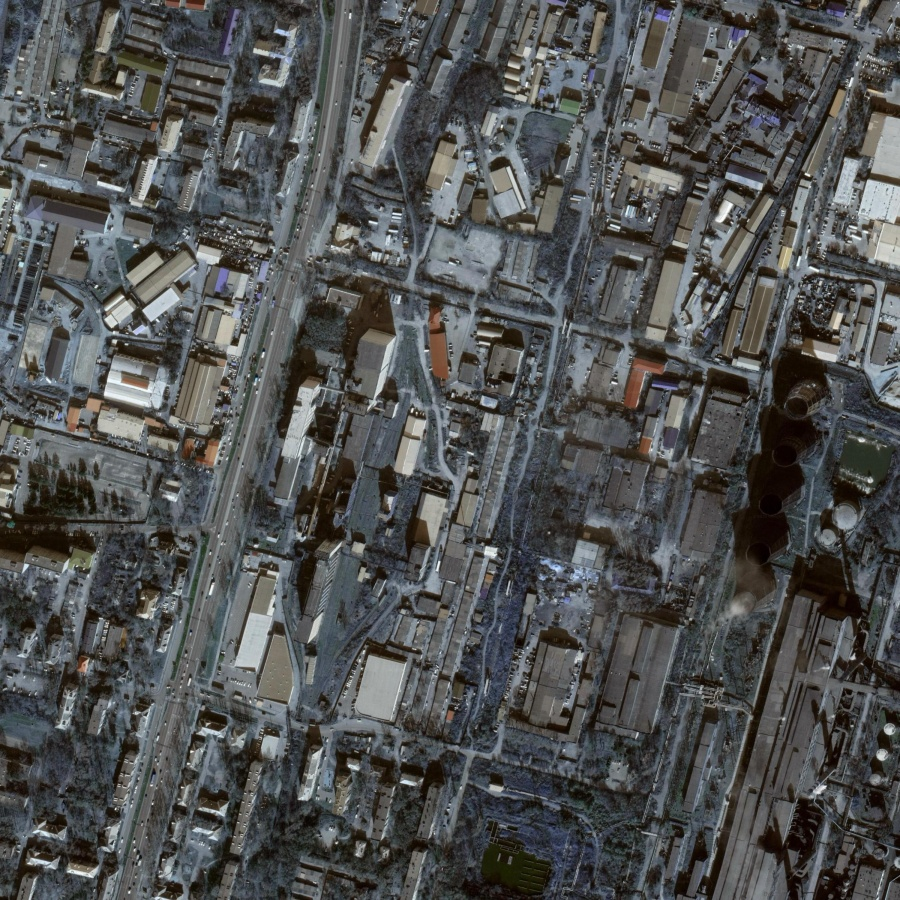PowerPlant: (700, 331, 870, 670)
